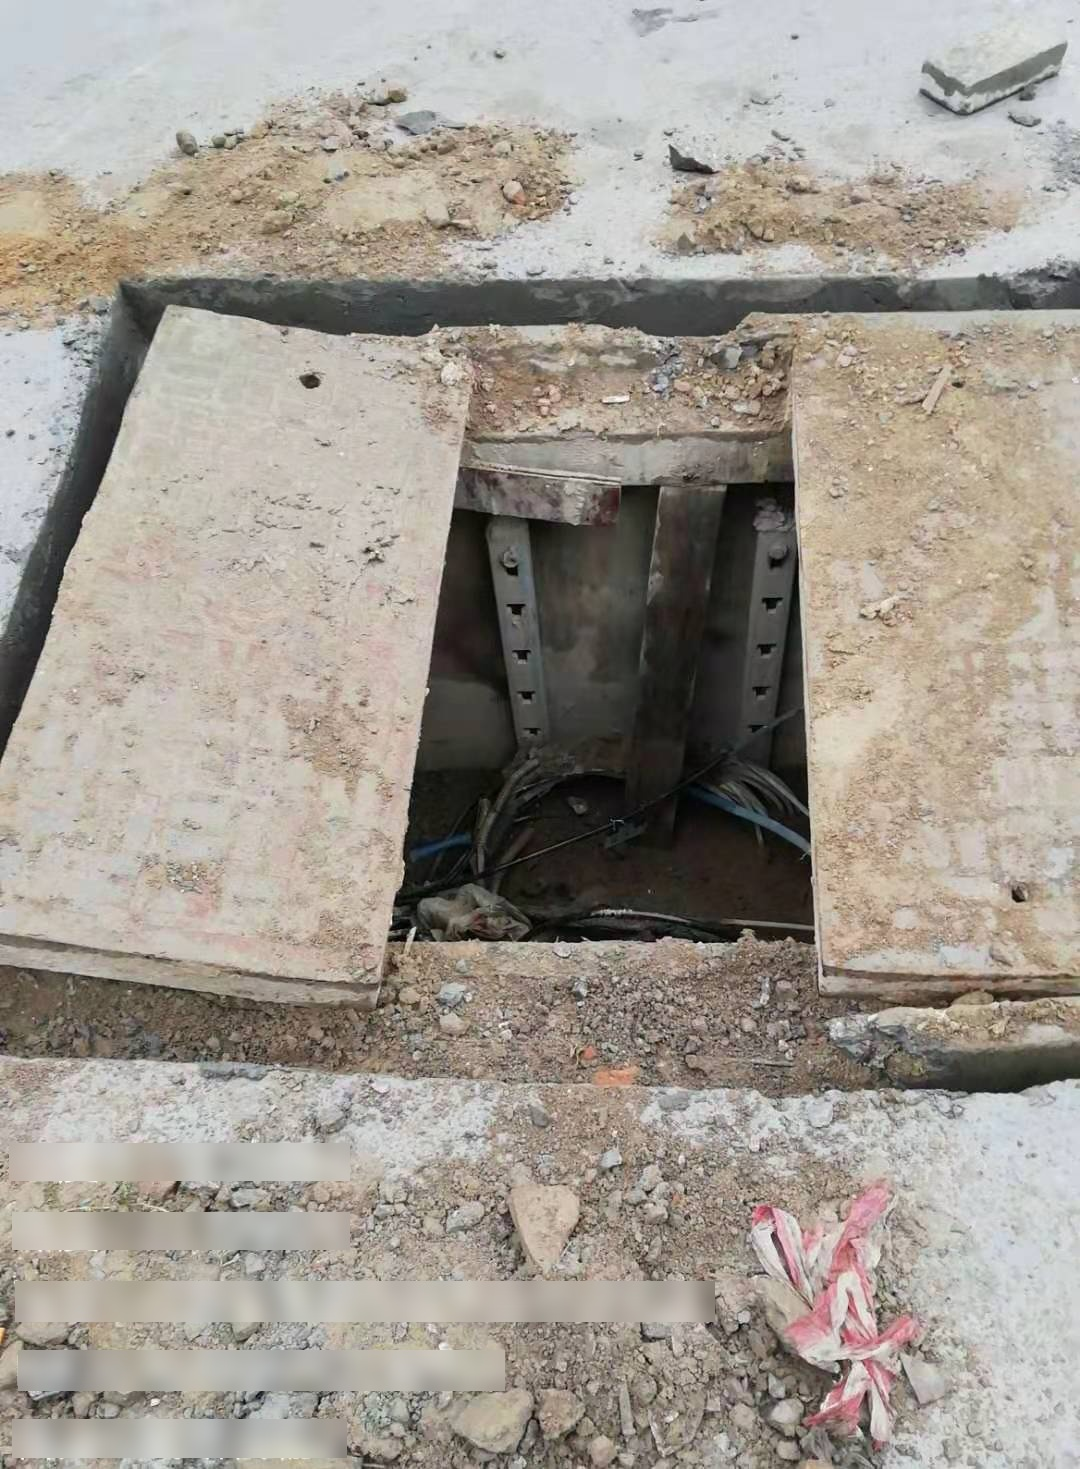uncovered: (1, 261, 1079, 1076)
